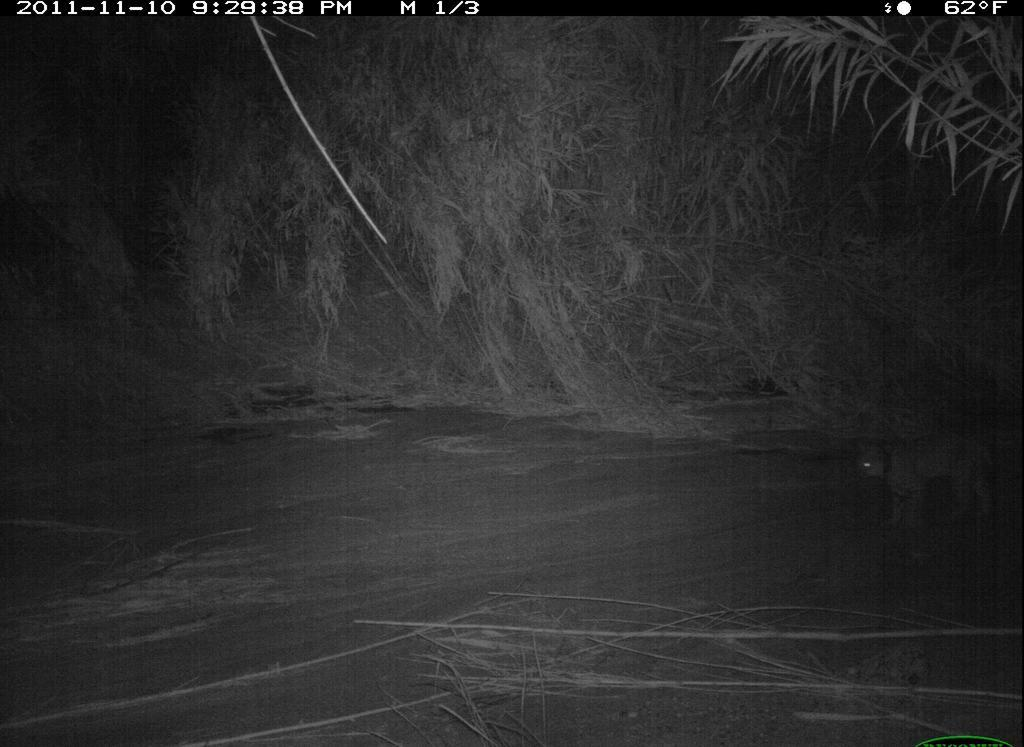bobcat: (852, 421, 1013, 540)
